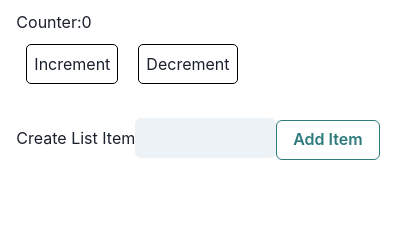
Test case: App › adds a new item to the list when the form is submitted
In the field labelled "Create List Item": (206, 138) [135,118,276,158], type "New Item"
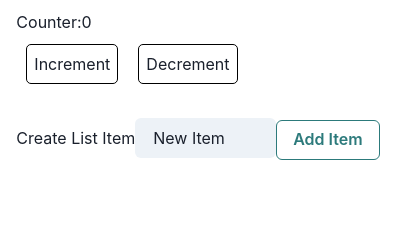
Click the button with test id "add-item": (328, 140) [276,120,380,160]
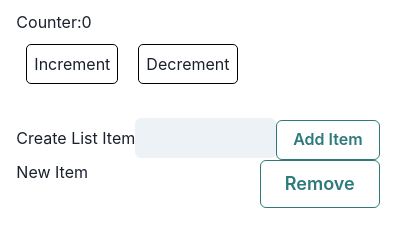
Expected: the text "New Item" is shown, [16,162,88,182]
